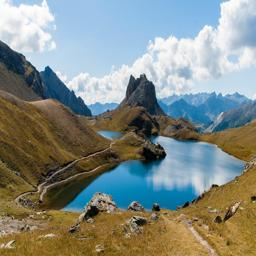Cuckoo: (222, 201, 241, 223)
